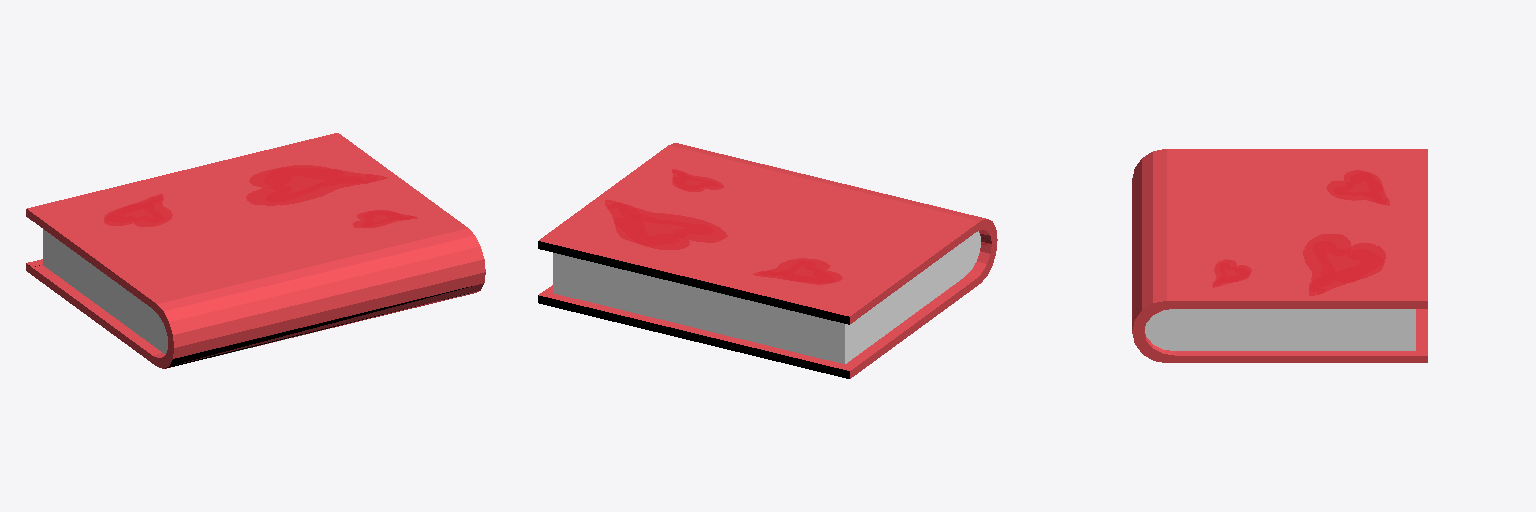
3 views of the same model, side by side, from view 1: azimuth 30°, elevation 25°; view 2: azimuth 150°, elevation 25°; view 3: azimuth 270°, elevation 25° (orthographic).
Parts seen in each view (by area): view 1: libro:pCube673group3 group8; view 2: libro:pCube673group3 group8; view 3: libro:pCube673group3 group8.
Boxes of the visible parts, x1=… form: libro:pCube673group3 group8: x1=26, y1=133, x2=485, y2=368; libro:pCube673group3 group8: x1=538, y1=143, x2=997, y2=378; libro:pCube673group3 group8: x1=1132, y1=149, x2=1427, y2=362.
Bounding box in the file's own units: 3.19 × 0.6116 × 2.62.
2 materials, 2 textured.